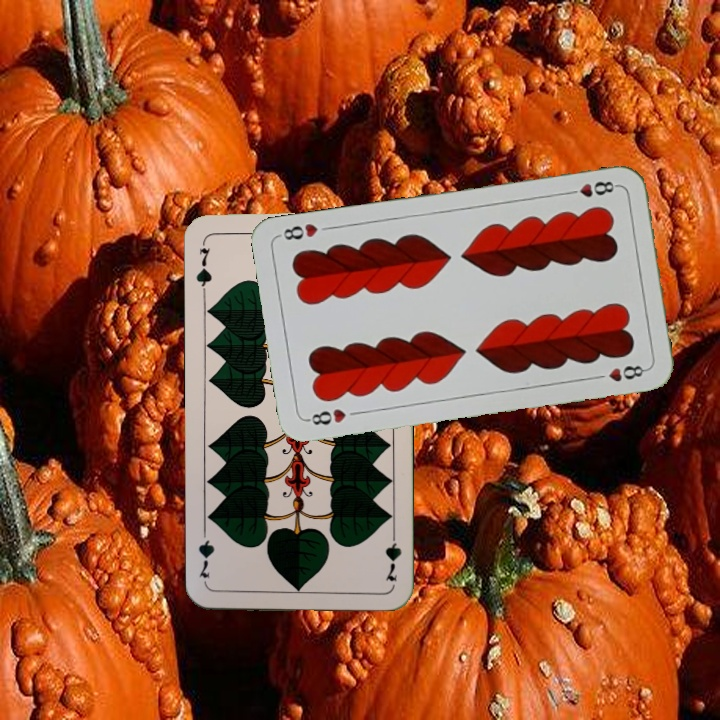G7: (381, 525, 404, 584), (192, 236, 214, 295)
H8: (562, 177, 621, 200), (303, 404, 349, 428)
